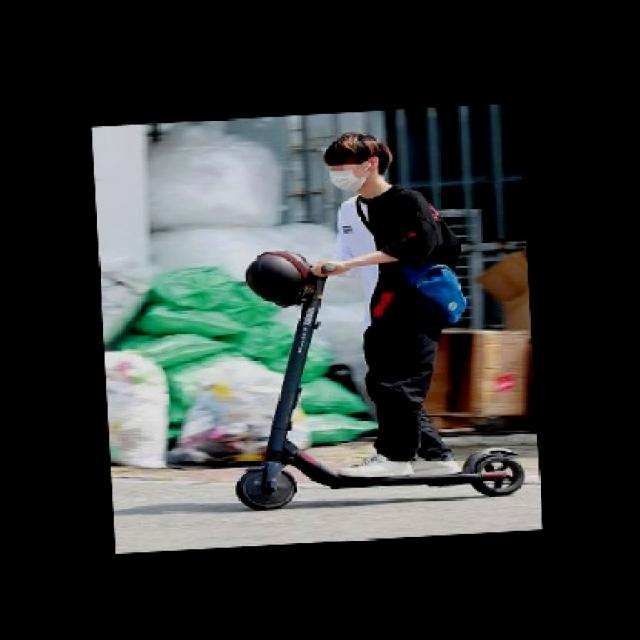bare_head: (313, 123, 397, 191)
human: (316, 110, 462, 471)
kickboard: (211, 426, 530, 513)
